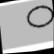no answer: (24, 2, 54, 33)
